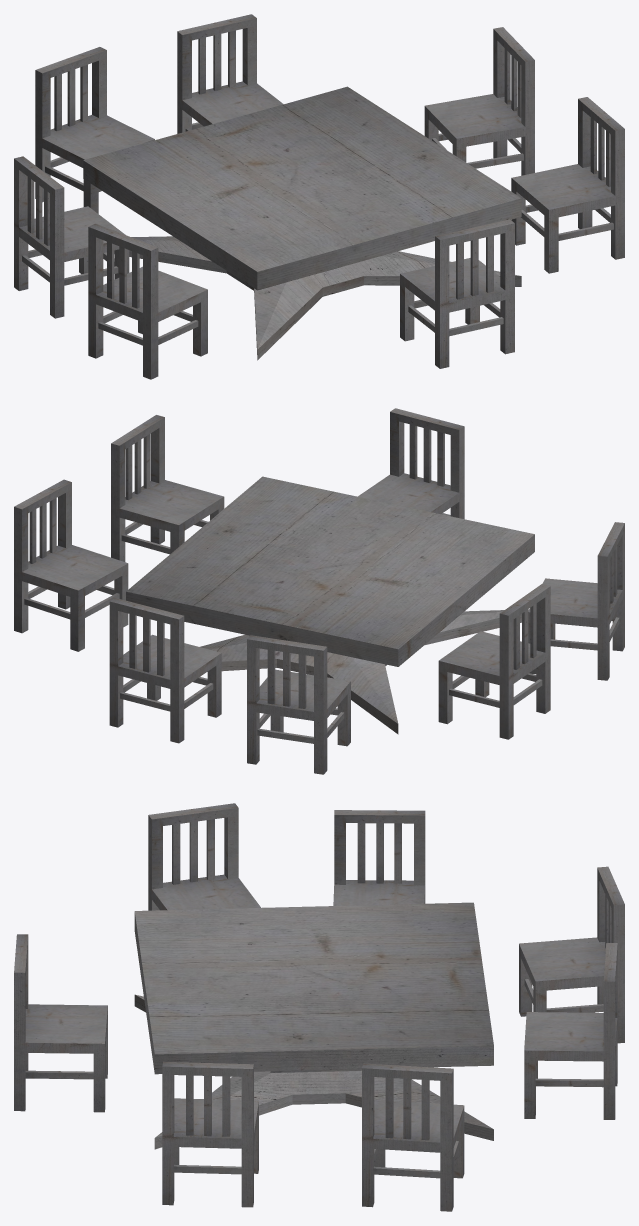
Rendered from DeskWithChairs.glb.
3 renders of one model, top to bottom at view 1: azimuth 30°, elevation 25°; view 2: azimuth 150°, elevation 25°; view 3: azimuth 270°, elevation 25°, orthographic. The views are drawn at different scales.
Visible parts, largest first — view 1: DeskWithChairs; view 2: DeskWithChairs; view 3: DeskWithChairs.
Boxes of the visible parts, x1=… form: DeskWithChairs: x1=14, y1=14, x2=624, y2=379; DeskWithChairs: x1=14, y1=408, x2=624, y2=774; DeskWithChairs: x1=14, y1=803, x2=624, y2=1211.
Bounding box in the file's own units: 3.6 × 0.8635 × 3.44.
2 materials, 2 textured.
